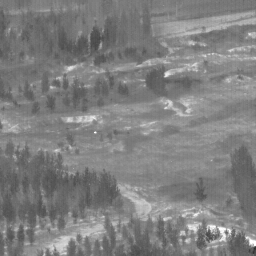aircraft: (94, 132, 96, 134)
